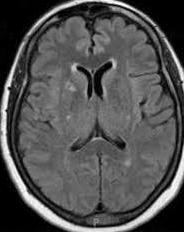Normal_Brain: (12, 1, 184, 232)
